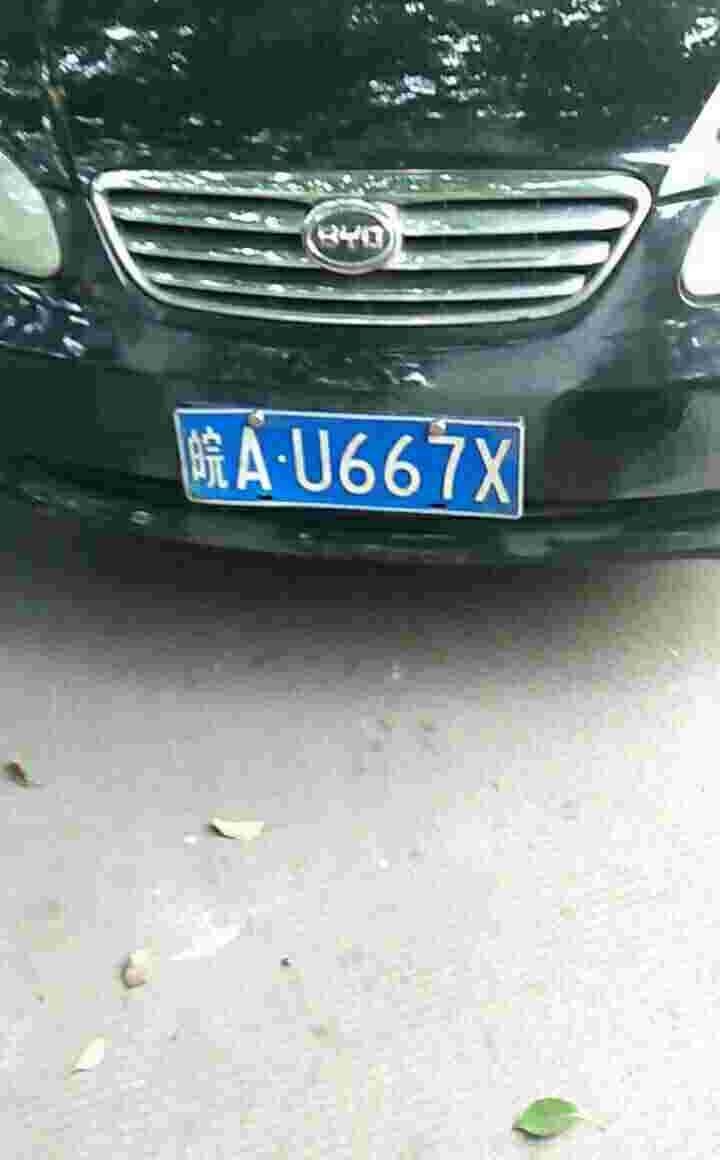license_plate: (175, 405, 528, 521)
